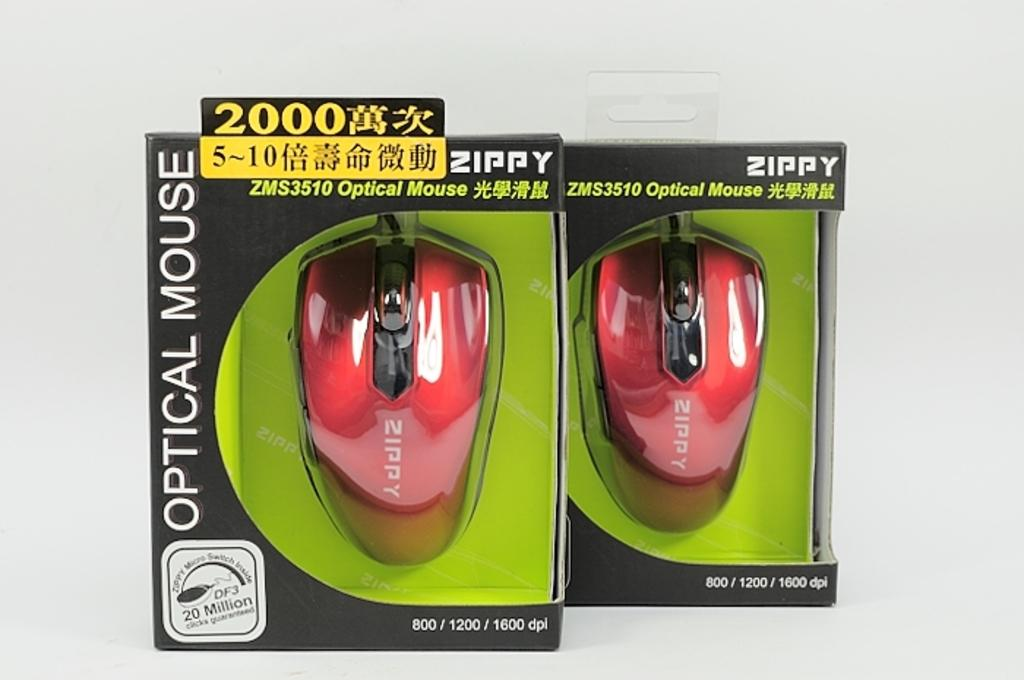Computer-mouse: (291, 228, 503, 572), (588, 233, 764, 534)
